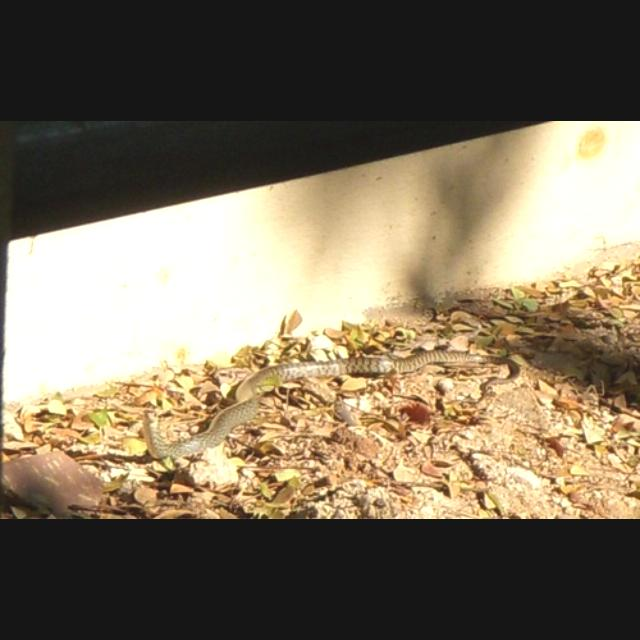snake: (135, 346, 528, 460)
